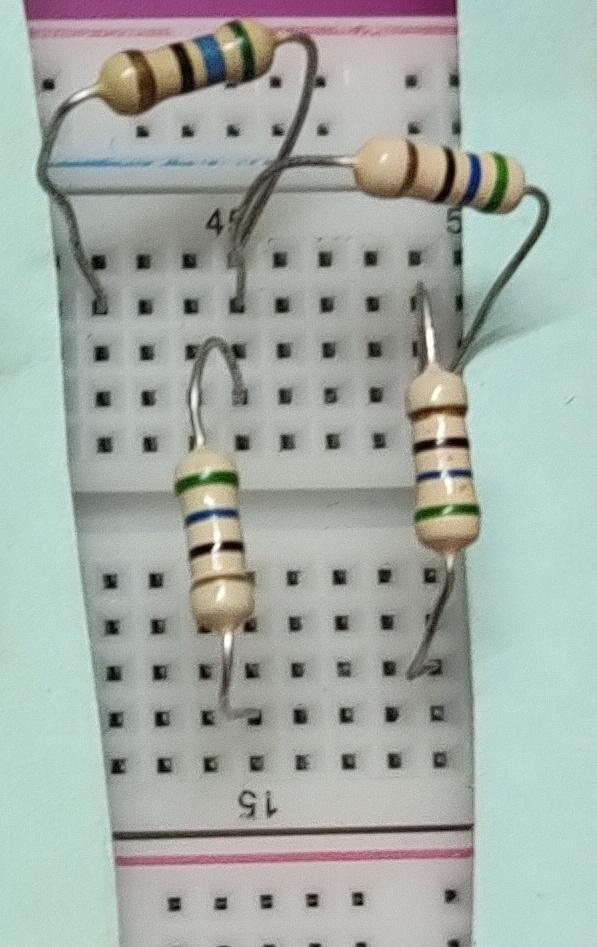resistor: (85, 2, 288, 131), (393, 347, 501, 571), (163, 435, 273, 647), (341, 123, 535, 231)
